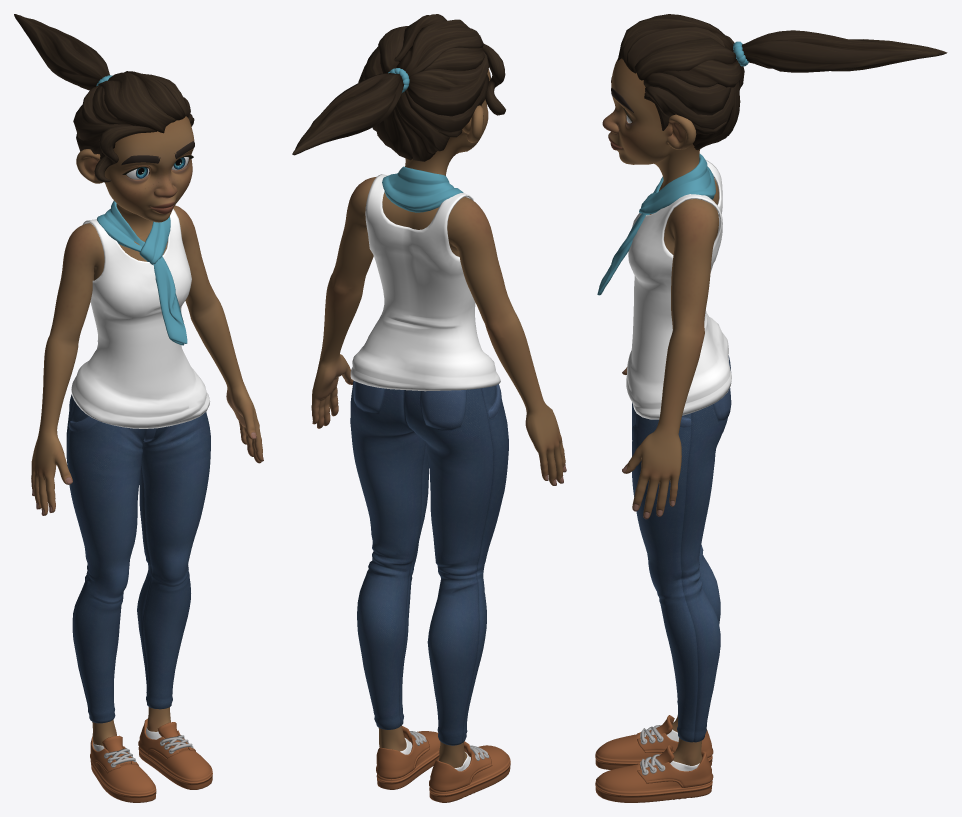
The model's file is rain-v3-20261031.glb.
The picture shows the model from 3 angles, left to right: view 1: azimuth 30°, elevation 25°; view 2: azimuth 150°, elevation 25°; view 3: azimuth 270°, elevation 25°; orthographic projection. The views are drawn at different scales.
Parts seen in each view (by area): view 1: GEO-rain-jeans-mobile, GEO-rain-top-mobile, GEO-rain-body-mobile, GEO-rain-head-mobile, GEO-rain-shoes-mobile, GEO-rain-hair_main-mobile, GEO-rain-scarf-mobile, GEO-rain-hair_ponytail-mobile, GEO-rain-hair_strand-mobile; view 2: GEO-rain-jeans-mobile, GEO-rain-top-mobile, GEO-rain-body-mobile, GEO-rain-hair_main-mobile, GEO-rain-shoes-mobile, GEO-rain-hair_ponytail-mobile, GEO-rain-scarf-mobile, GEO-rain-head-mobile, GEO-rain-hair_strand-mobile; view 3: GEO-rain-jeans-mobile, GEO-rain-body-mobile, GEO-rain-top-mobile, GEO-rain-hair_main-mobile, GEO-rain-shoes-mobile, GEO-rain-head-mobile, GEO-rain-hair_ponytail-mobile, GEO-rain-scarf-mobile.
Part boxes in pixels (bbox=[...]): GEO-rain-jeans-mobile: bbox=[66, 394, 210, 723]; GEO-rain-top-mobile: bbox=[71, 209, 210, 428]; GEO-rain-body-mobile: bbox=[31, 205, 263, 745]; GEO-rain-head-mobile: bbox=[76, 116, 194, 237]; GEO-rain-shoes-mobile: bbox=[90, 718, 212, 802]; GEO-rain-hair_main-mobile: bbox=[73, 71, 194, 159]; GEO-rain-scarf-mobile: bbox=[97, 201, 187, 345]; GEO-rain-hair_ponytail-mobile: bbox=[14, 14, 109, 90]; GEO-rain-hair_strand-mobile: bbox=[94, 125, 156, 182]; GEO-rain-jeans-mobile: bbox=[350, 380, 508, 745]; GEO-rain-top-mobile: bbox=[350, 174, 500, 391]; GEO-rain-body-mobile: bbox=[311, 177, 566, 767]; GEO-rain-hair_main-mobile: bbox=[358, 14, 489, 161]; GEO-rain-shoes-mobile: bbox=[376, 726, 510, 802]; GEO-rain-hair_ponytail-mobile: bbox=[292, 73, 403, 155]; GEO-rain-scarf-mobile: bbox=[382, 166, 463, 212]; GEO-rain-head-mobile: bbox=[405, 69, 490, 175]; GEO-rain-hair_strand-mobile: bbox=[482, 44, 505, 115]; GEO-rain-jeans-mobile: bbox=[632, 355, 731, 742]; GEO-rain-body-mobile: bbox=[622, 178, 718, 765]; GEO-rain-top-mobile: bbox=[626, 160, 731, 419]; GEO-rain-hair_main-mobile: bbox=[618, 14, 744, 150]; GEO-rain-shoes-mobile: bbox=[595, 715, 713, 802]; GEO-rain-head-mobile: bbox=[602, 58, 700, 188]; GEO-rain-hair_ponytail-mobile: bbox=[742, 30, 947, 72]; GEO-rain-scarf-mobile: bbox=[597, 154, 715, 295].
Size of the model in its own units: 0.5966 by 1.8 by 0.7595.
20 materials, 6 textured.
